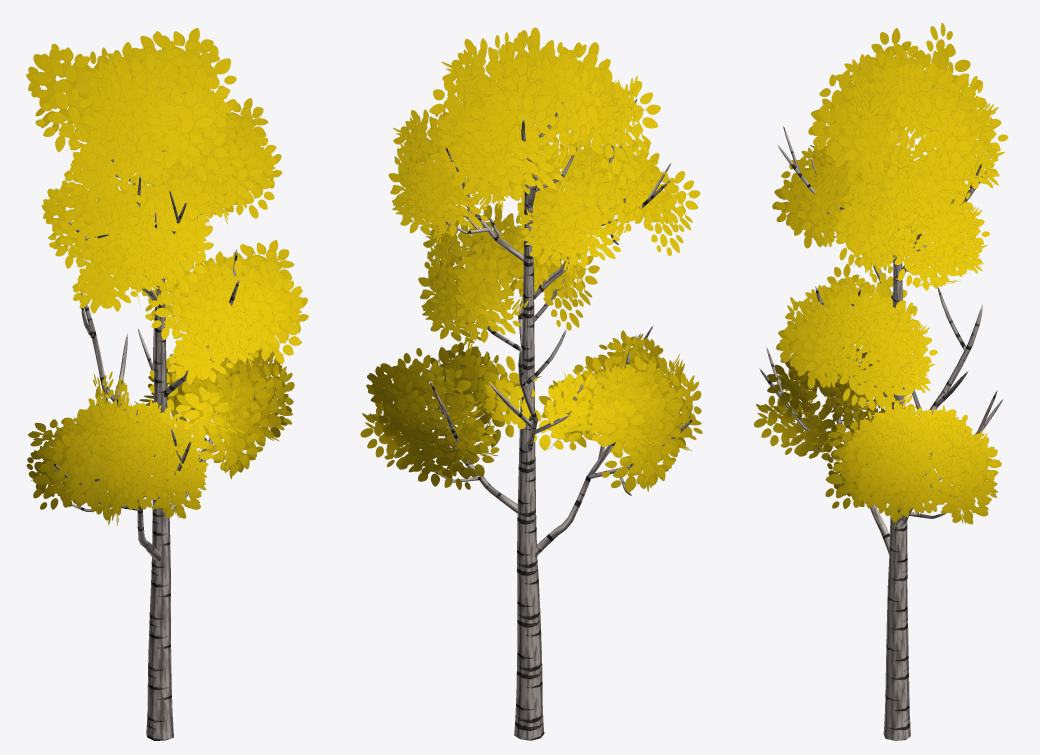
File: Birch_05.glb
3 renders of one model, left to right at view 1: azimuth 30°, elevation 25°; view 2: azimuth 150°, elevation 25°; view 3: azimuth 270°, elevation 25°, orthographic. The views are drawn at different scales.
Visible parts, largest first — view 1: BirchTree_2; view 2: BirchTree_2; view 3: BirchTree_2.
Part boxes in pixels (x1=…): BirchTree_2: x1=26, y1=28, x2=308, y2=740; BirchTree_2: x1=360, y1=27, x2=702, y2=740; BirchTree_2: x1=754, y1=22, x2=1008, y2=740.
Bounding box in the file's own units: 3.35 × 7.57 × 2.81.
2 materials, 2 textured.
